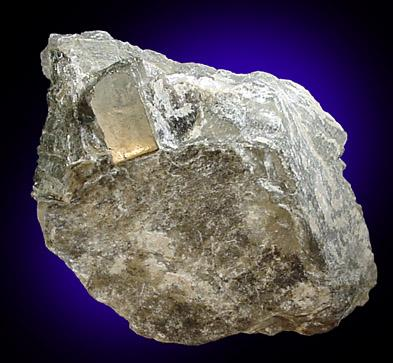pyrite: (91, 72, 158, 164)
